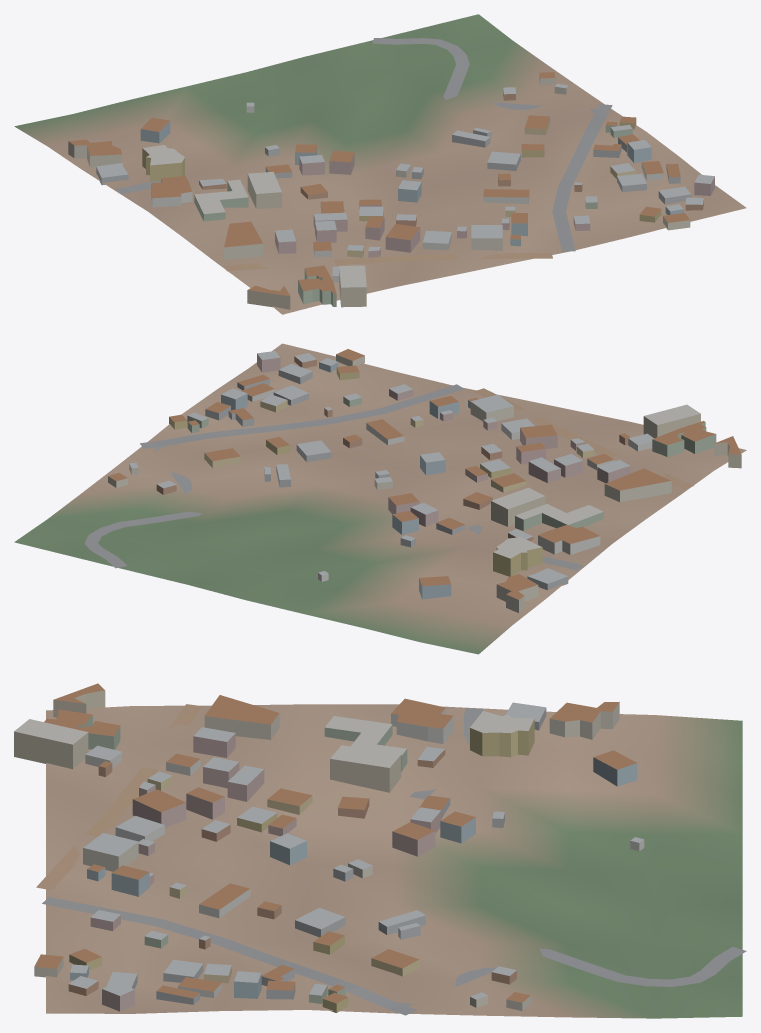
3 views of the same model, one above another, from view 1: azimuth 30°, elevation 25°; view 2: azimuth 150°, elevation 25°; view 3: azimuth 270°, elevation 25° (orthographic). The views are drawn at different scales.
Parts seen in each view (by area): view 1: Lo; view 2: Lo; view 3: Lo.
Boxes of the visible parts, x1,y1,x2,y2 form: Lo: (14, 14, 746, 314); Lo: (14, 343, 746, 654); Lo: (14, 683, 746, 1018).
Bounding box in the file's own units: 266 × 16.09 × 269.
